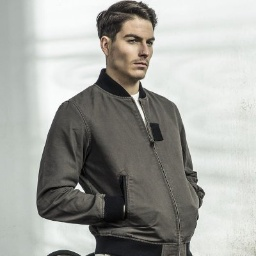face: (89, 1, 161, 83)
